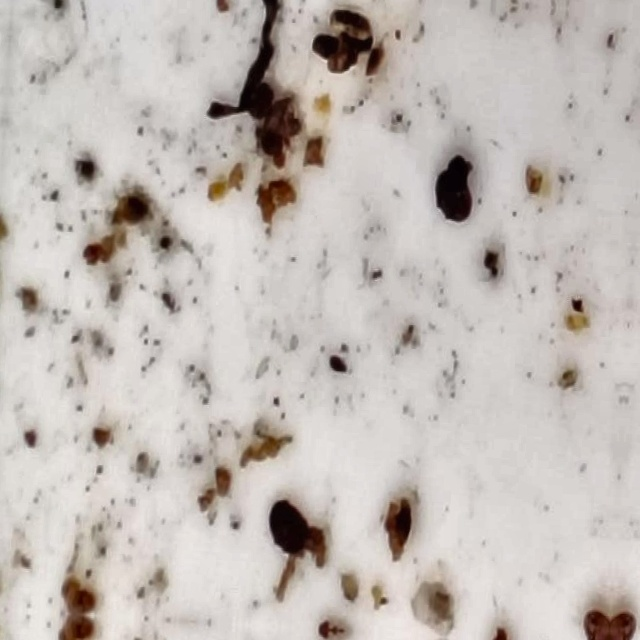varroa: (261, 497, 312, 559)
